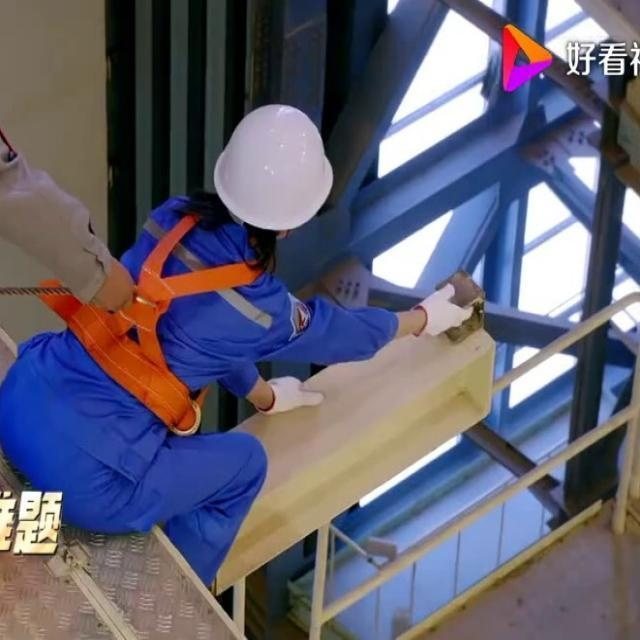Arnes_seguridad: (26, 173, 274, 440)
